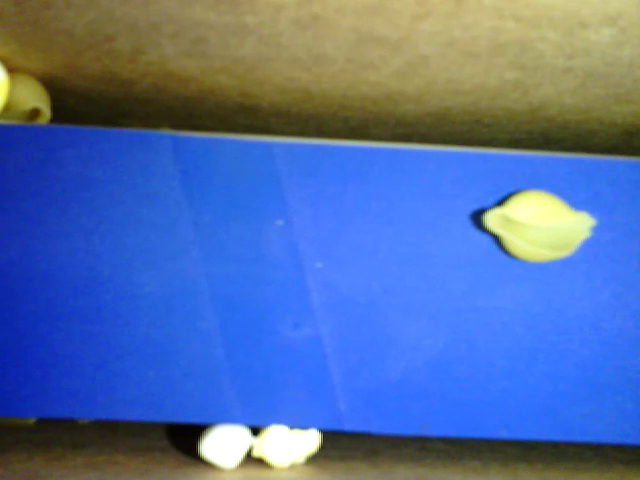shell: (471, 184, 599, 265), (1, 75, 54, 126)
